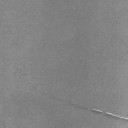finishing roll printing: (70, 104, 128, 121)
